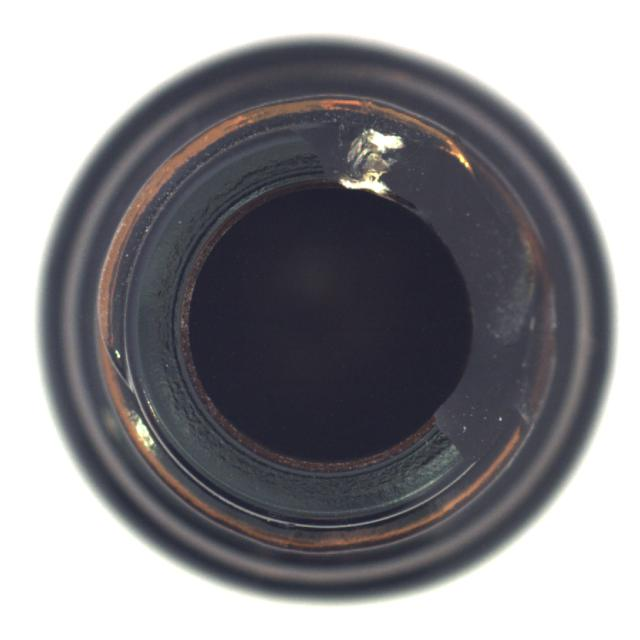bad-broken_large: (36, 34, 618, 604)
